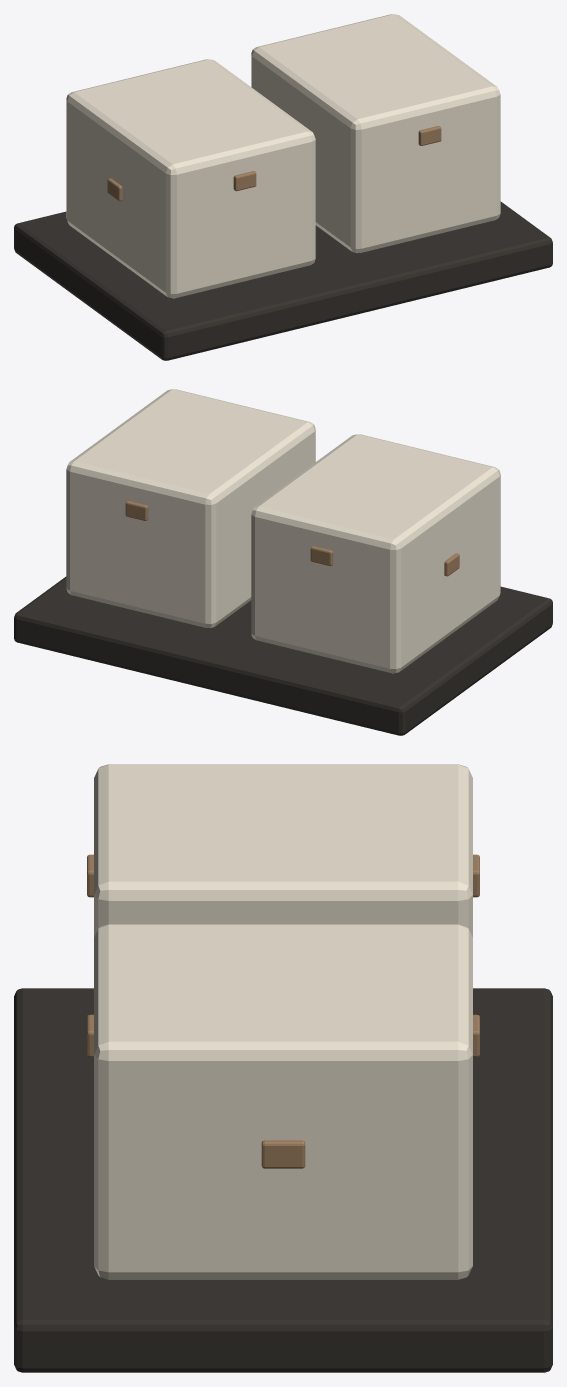
Rendered from pulp.glb.
The picture shows the model from 3 angles, top to bottom: view 1: azimuth 30°, elevation 25°; view 2: azimuth 150°, elevation 25°; view 3: azimuth 270°, elevation 25°; orthographic projection. The views are drawn at different scales.
Visible parts, largest first — view 1: pulp-bale-0, pulp-bale-1, pulp-black-pallet; view 2: pulp-bale-0, pulp-bale-1, pulp-black-pallet; view 3: pulp-bale-1, pulp-black-pallet, pulp-bale-0, pulp-strap-h-1.
Part boxes in pixels (x1,y1,x2,y2): pulp-bale-0: [66, 59, 315, 298]; pulp-bale-1: [251, 14, 500, 252]; pulp-black-pallet: [14, 201, 552, 360]; pulp-bale-0: [251, 434, 500, 673]; pulp-bale-1: [66, 389, 315, 627]; pulp-black-pallet: [14, 576, 552, 735]; pulp-bale-1: [94, 924, 472, 1279]; pulp-black-pallet: [14, 988, 552, 1372]; pulp-bale-0: [94, 764, 472, 937]; pulp-strap-h-1: [261, 1140, 305, 1168].
Size of the model in its own units: 1.18 by 0.4935 by 0.7938.
